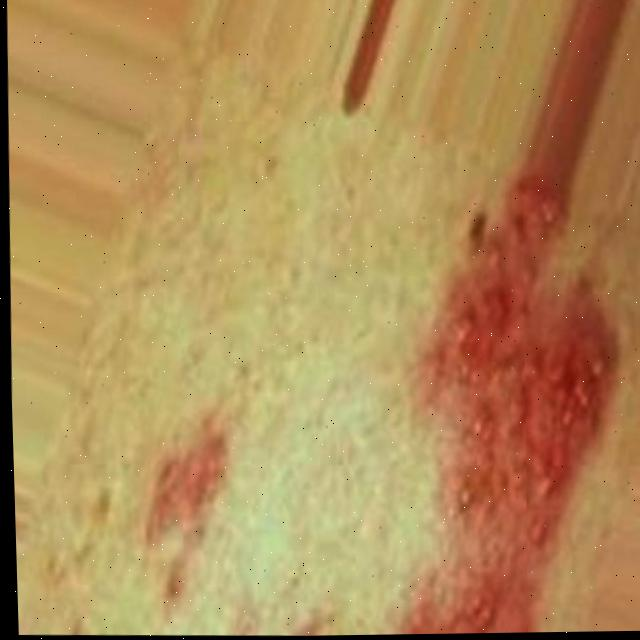Shingles: (385, 175, 629, 634), (140, 410, 235, 605)
